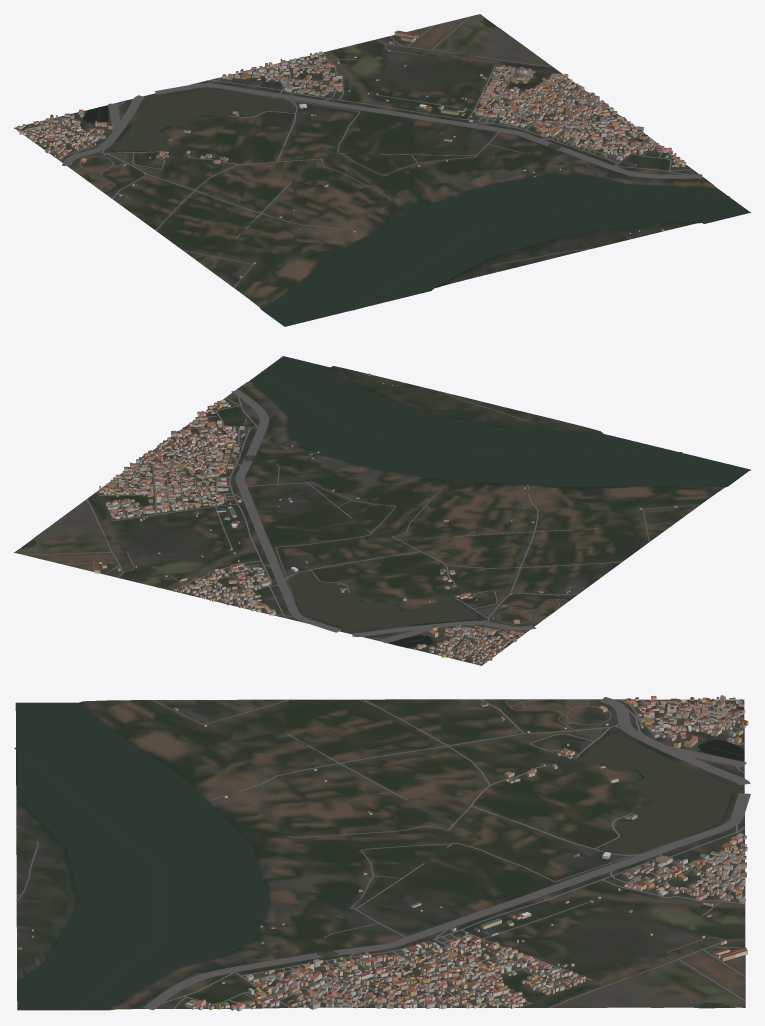
3 views of the same model, one above another, from view 1: azimuth 30°, elevation 25°; view 2: azimuth 150°, elevation 25°; view 3: azimuth 270°, elevation 25° (orthographic). The views are drawn at different scales.
Visible parts, largest first — view 1: ground, water, buildings, roads; view 2: ground, water, buildings, roads; view 3: ground, water, buildings, roads.
Part boxes in pixels (left/top/right/bottom): ground: left=14, top=14, right=750, bottom=326; water: left=83, top=18, right=749, bottom=326; buildings: left=17, top=30, right=686, bottom=278; roads: left=26, top=16, right=702, bottom=287; ground: left=14, top=356, right=750, bottom=665; water: left=21, top=356, right=749, bottom=647; buildings: left=92, top=373, right=677, bottom=664; roads: left=24, top=390, right=699, bottom=660; ground: left=15, top=699, right=745, bottom=1010; water: left=14, top=702, right=744, bottom=1010; buildings: left=17, top=695, right=748, bottom=1011; roads: left=16, top=697, right=750, bottom=1010.
Bounding box in the file's own units: 1423 × 20.17 × 1418.
